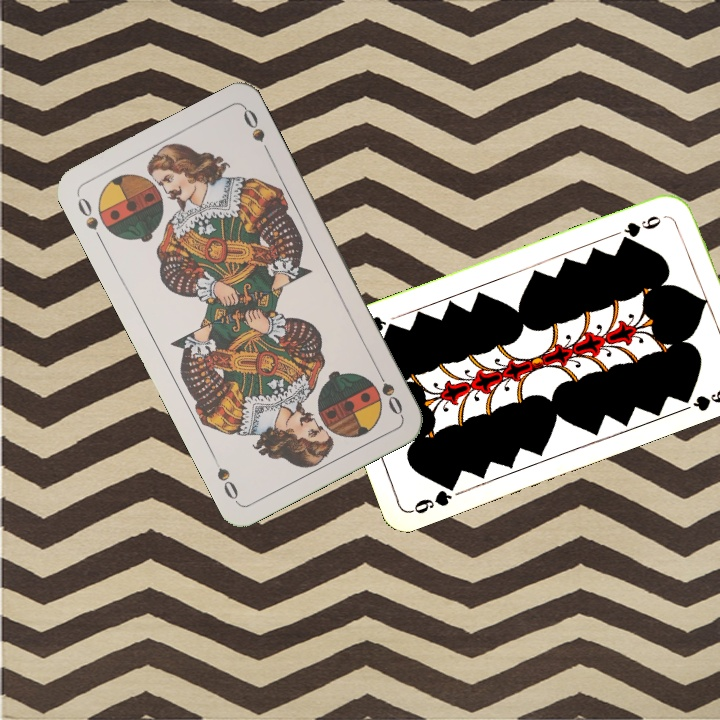G9: (407, 477, 460, 517), (616, 211, 664, 245)
SO: (371, 363, 405, 418), (73, 193, 106, 246)
